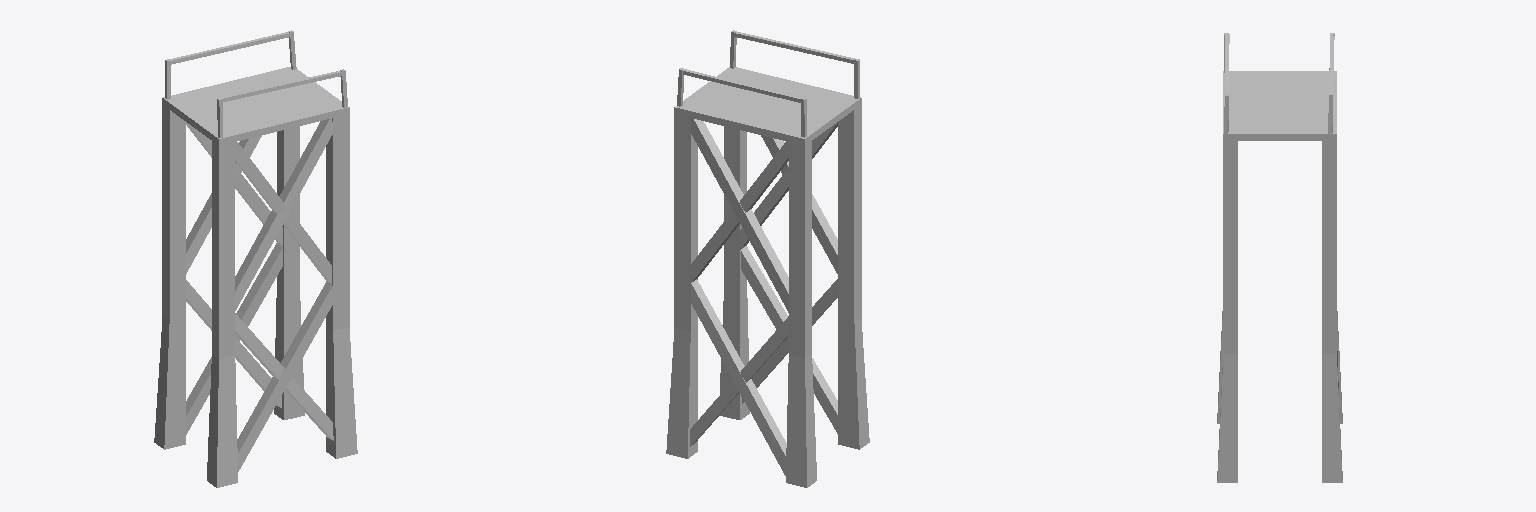
3 renders of one model, left to right at view 1: azimuth 30°, elevation 25°; view 2: azimuth 150°, elevation 25°; view 3: azimuth 270°, elevation 25°, orthographic.
Parts seen in each view (by area): view 1: group[number redacted], group[number redacted], group[number redacted], group[number redacted], group[number redacted], group[number redacted], group[number redacted], group[number redacted], group[number redacted], group[number redacted], group[number redacted]; view 2: group[number redacted], group[number redacted], group[number redacted], group[number redacted], group[number redacted], group[number redacted], group[number redacted], group[number redacted], group[number redacted], group[number redacted], group[number redacted]; view 3: group[number redacted].
Part boxes in pixels (x1,y1,x2,y2): group[number redacted]: (154,67,357,487); group[number redacted]: (235,118,332,310); group[number redacted]: (237,281,332,471); group[number redacted]: (186,243,282,434); group[number redacted]: (235,142,331,284); group[number redacted]: (235,313,333,440); group[number redacted]: (186,280,281,407); group[number redacted]: (186,136,261,273); group[number redacted]: (186,122,282,246); group[number redacted]: (169,32,289,64); group[number redacted]: (221,71,341,101); group[number redacted]: (666,67,869,487); group[number redacted]: (691,118,788,312); group[number redacted]: (691,280,786,475); group[number redacted]: (741,246,837,433); group[number redacted]: (691,141,788,282); group[number redacted]: (690,316,788,446); group[number redacted]: (761,135,837,273); group[number redacted]: (727,122,837,255); group[number redacted]: (741,279,837,403); group[number redacted]: (735,32,855,63); group[number redacted]: (683,69,801,102); group[number redacted]: (1217,71,1342,482).
Size of the model in its own units: 0.27 by 0.7032 by 0.2075.